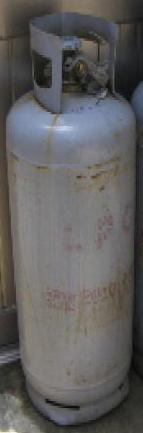cylinder: (1, 1, 143, 433)
